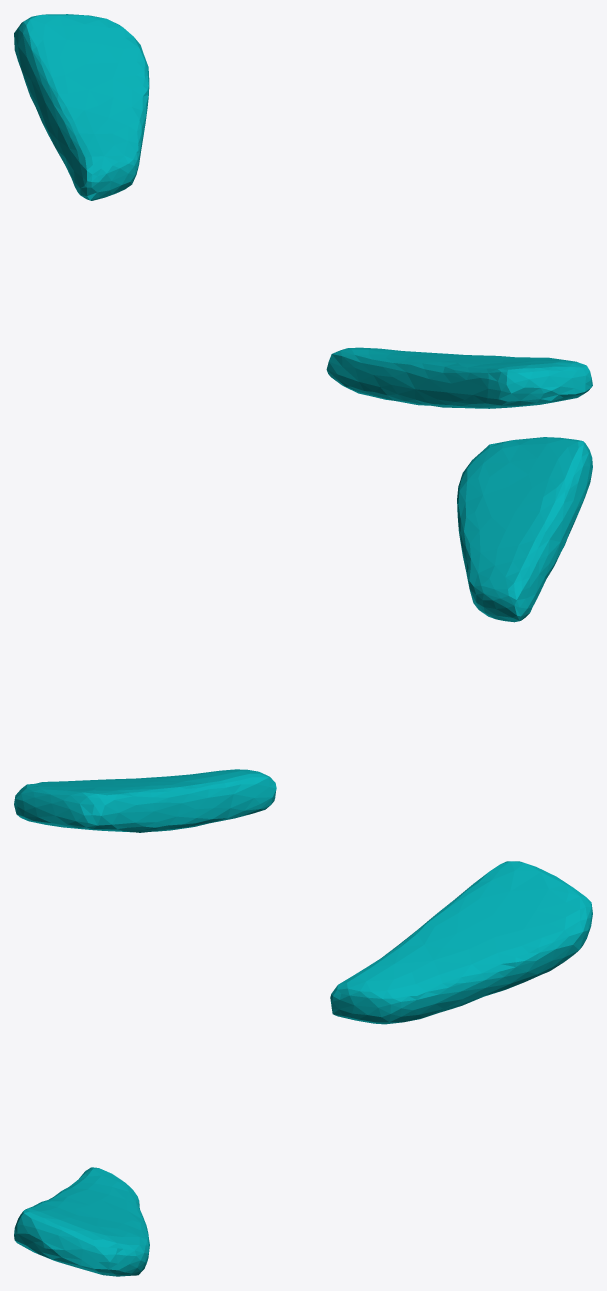
3 views of the same model, one above another, from view 1: azimuth 30°, elevation 25°; view 2: azimuth 150°, elevation 25°; view 3: azimuth 330°, elevation 25° (orthographic).
Parts seen in each view (by area): view 1: 312782554.obj; view 2: 312782554.obj; view 3: 312782554.obj.
Part boxes in pixels (<box>): 312782554.obj: <box>14,14,592,408</box>; 312782554.obj: <box>14,437,592,832</box>; 312782554.obj: <box>14,861,592,1276</box>.
Size of the model in its own units: 971 by 535 by 5413.
